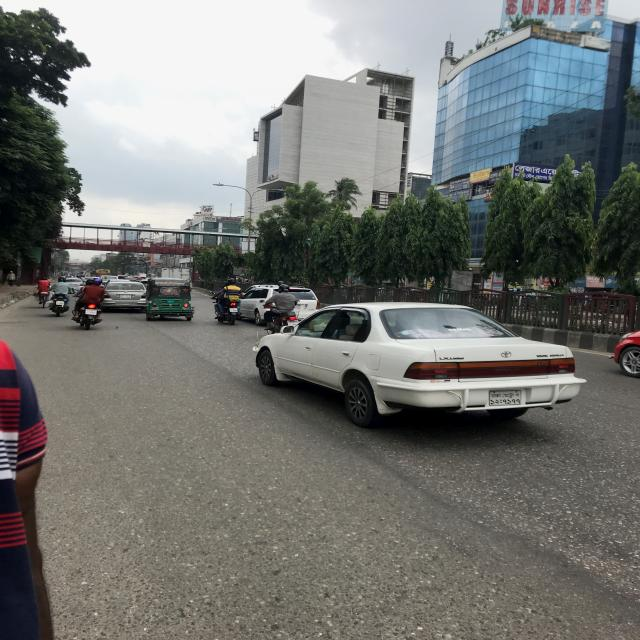silver: (104, 282, 148, 311)
white: (253, 305, 578, 430), (234, 284, 320, 323)
